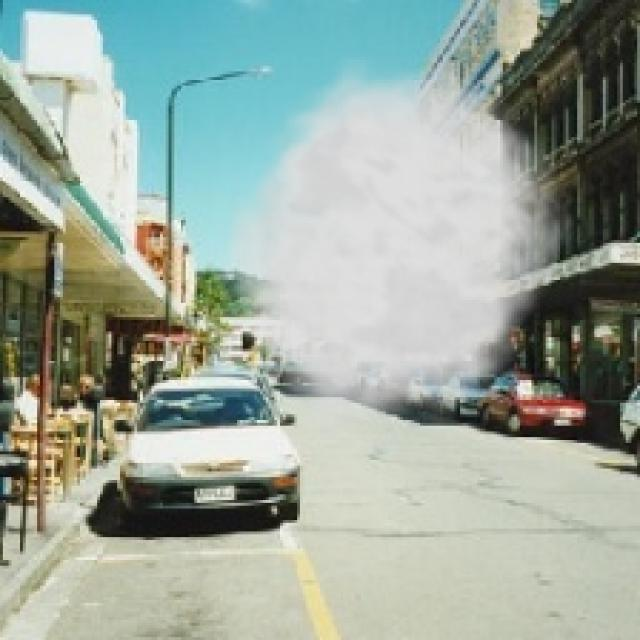Smoke: (215, 54, 580, 440)
